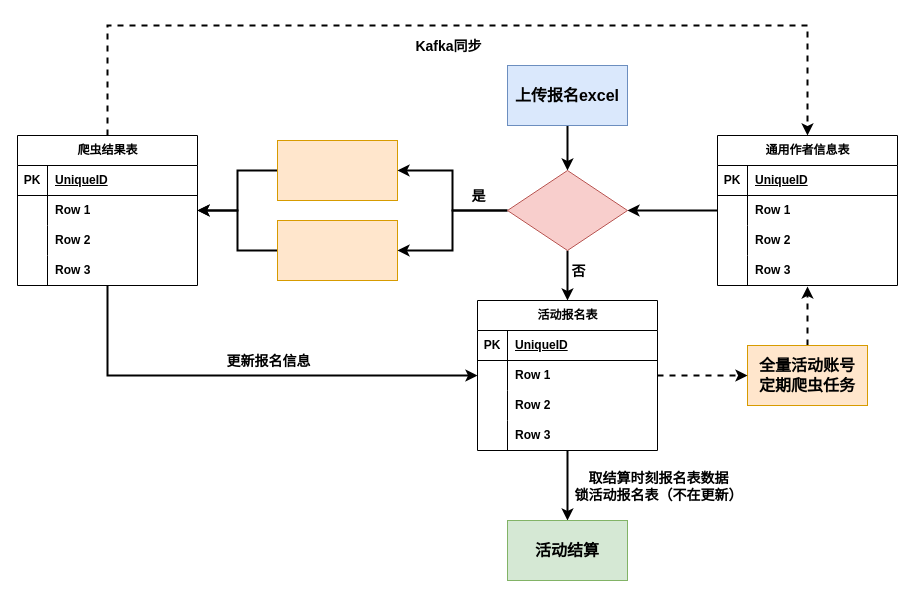
Some shapes in this 915 by 598 pixel diagram are drawn without their labels. Here are the shapes that lost their labels. From the top down, the centre of each, then its label:
At (337,170): "小红书作品 爬虫任务".
At (567,210): "误差>阈值".
At (337,250): "抖音作品 爬虫任务".
